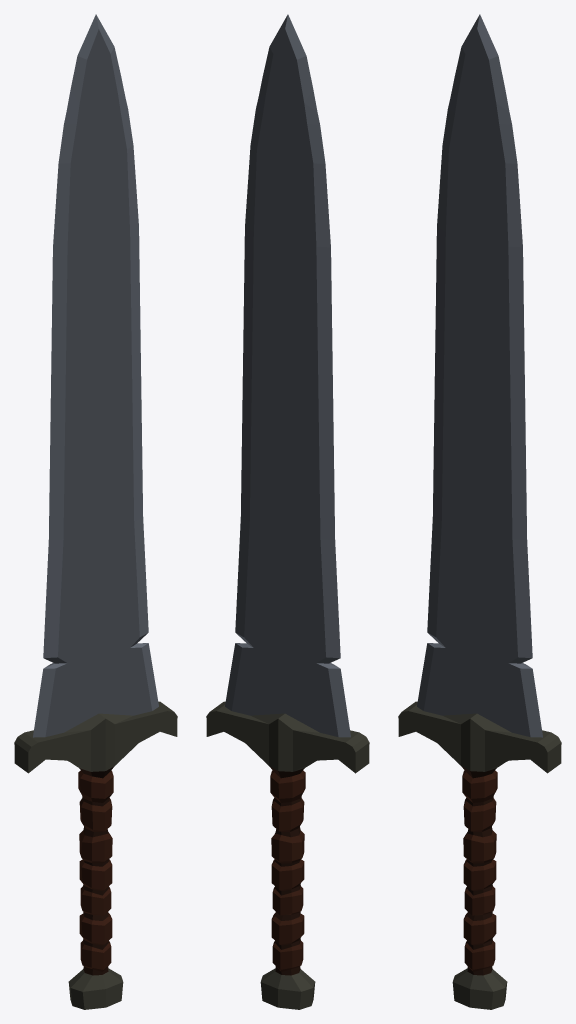
Rendered from Sword_Big.glb.
3 views of the same model, side by side, from view 1: azimuth 30°, elevation 25°; view 2: azimuth 150°, elevation 25°; view 3: azimuth 330°, elevation 25° (orthographic).
Parts seen in each view (by area): view 1: Sword_Big; view 2: Sword_Big; view 3: Sword_Big.
Boxes of the visible parts, <box> form: Sword_Big: <box>14,14,177,1009</box>; Sword_Big: <box>206,14,369,1009</box>; Sword_Big: <box>398,14,561,1009</box>.
Bounding box in the file's own units: 0.1632 × 1.03 × 0.0381.
